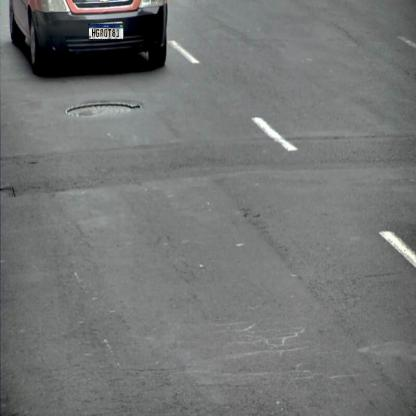PlacaM: (88, 23, 124, 40)
